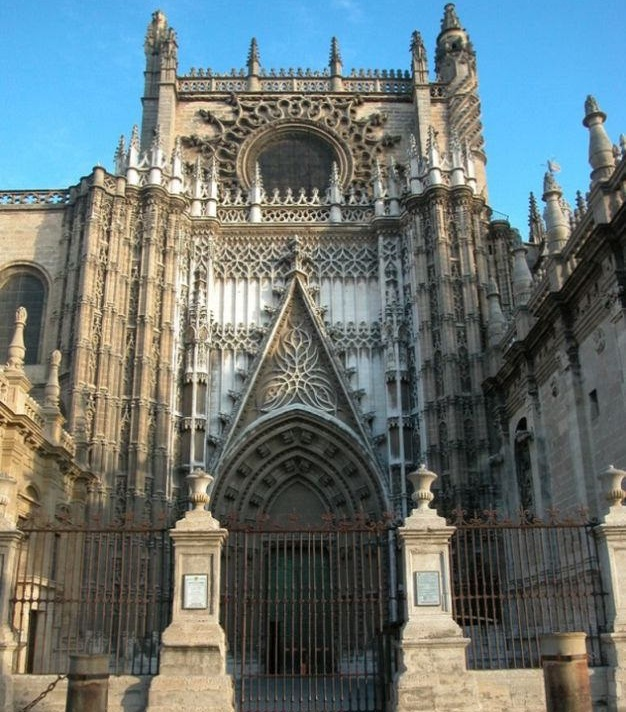arco-apuntado: (207, 406, 388, 526)
pinaculo-gotico: (325, 32, 346, 69), (244, 31, 262, 68)
